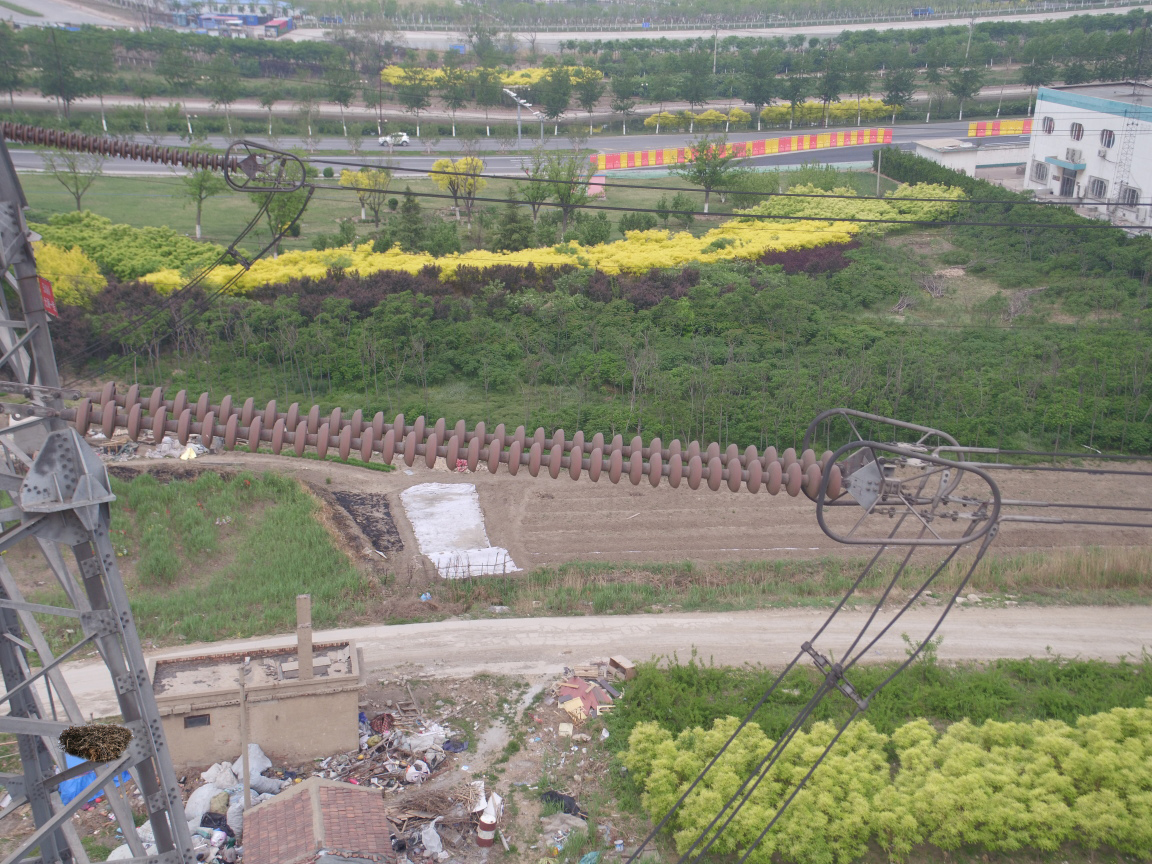nest: (46, 721, 136, 764)
